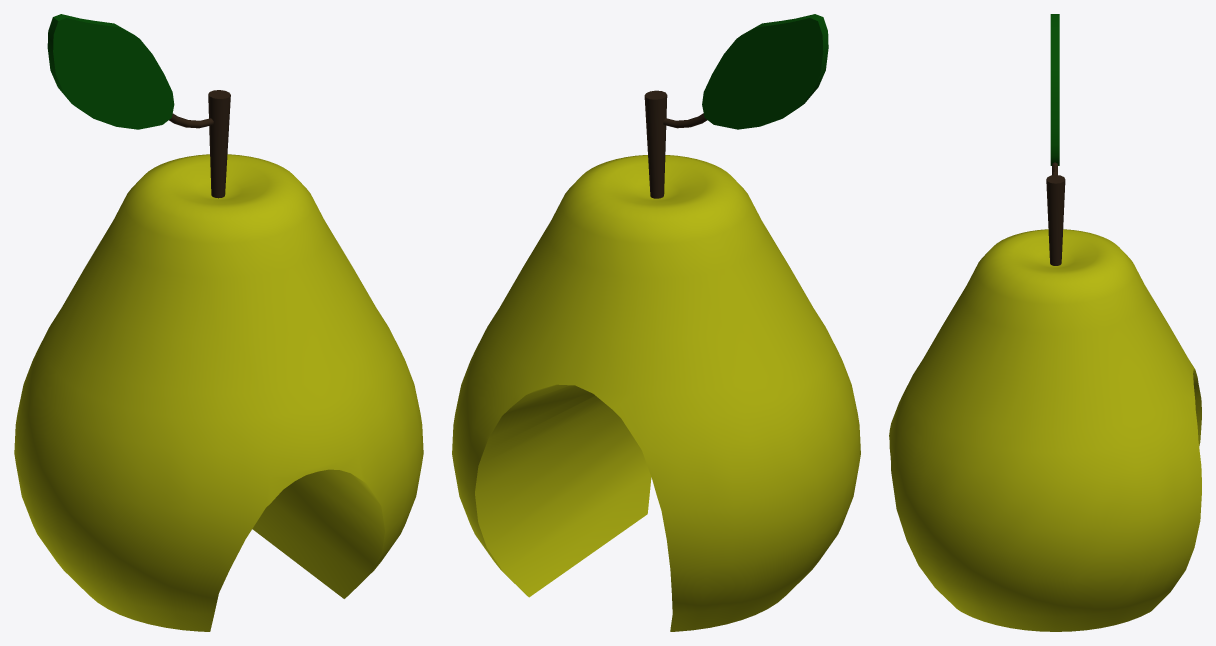
The picture shows the model from 3 angles, left to right: view 1: azimuth 30°, elevation 25°; view 2: azimuth 150°, elevation 25°; view 3: azimuth 270°, elevation 25°; orthographic projection. The views are drawn at different scales.
Parts seen in each view (by area): view 1: SM_307; view 2: SM_307; view 3: SM_307.
Part boxes in pixels (x1,y1,x2,y2): SM_307: [14, 14, 423, 631]; SM_307: [452, 14, 860, 631]; SM_307: [889, 14, 1201, 631].
Bounding box in the file's own units: 1.51 × 2.43 × 1.37.
